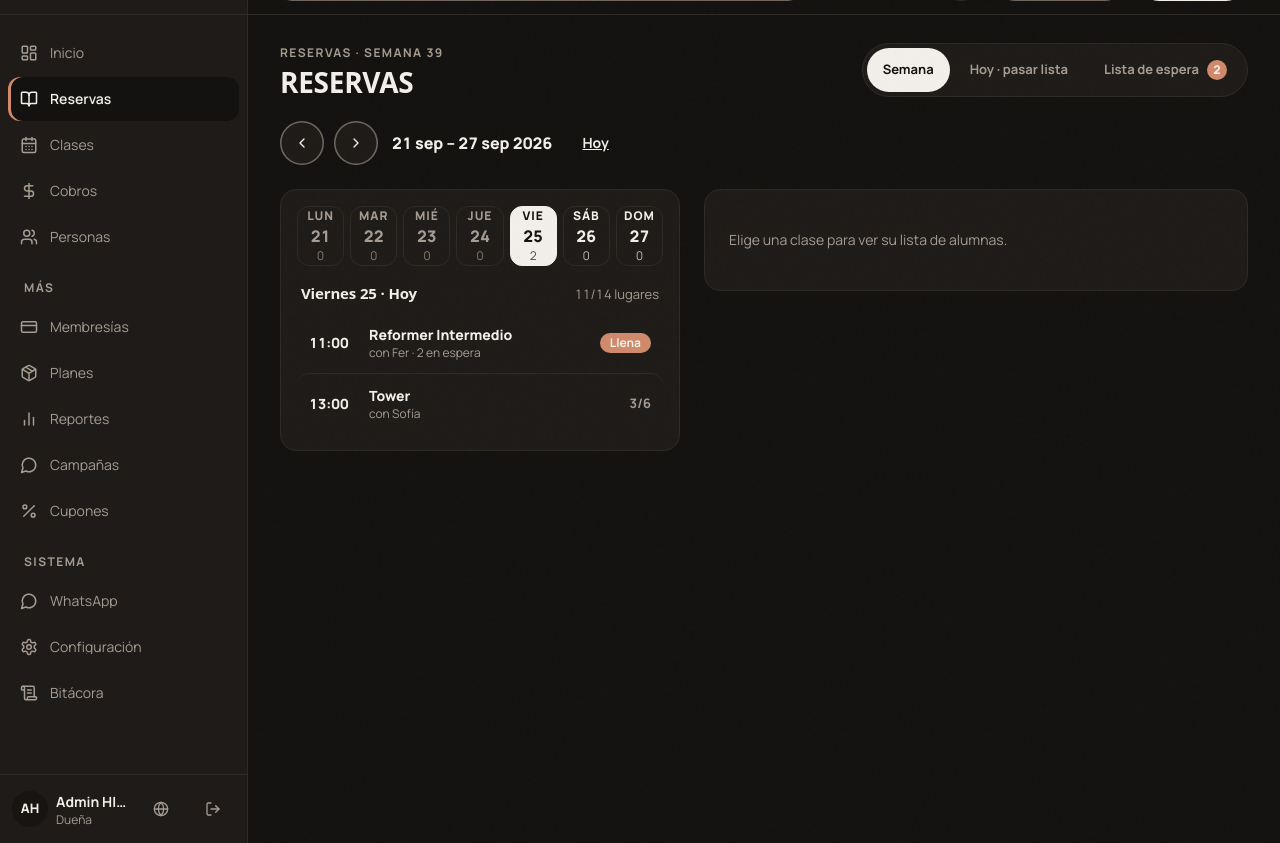
Test: Reservas · Semana › elegir otra clase la pone en la URL
The image size is (1280, 843).
What coordinates should you click on to do the following:
click the button "13:00 Tower con Sofía 3/6"
I would click on:
 (329, 403)
Its box is [297,372,663,434].
(page scrolled)
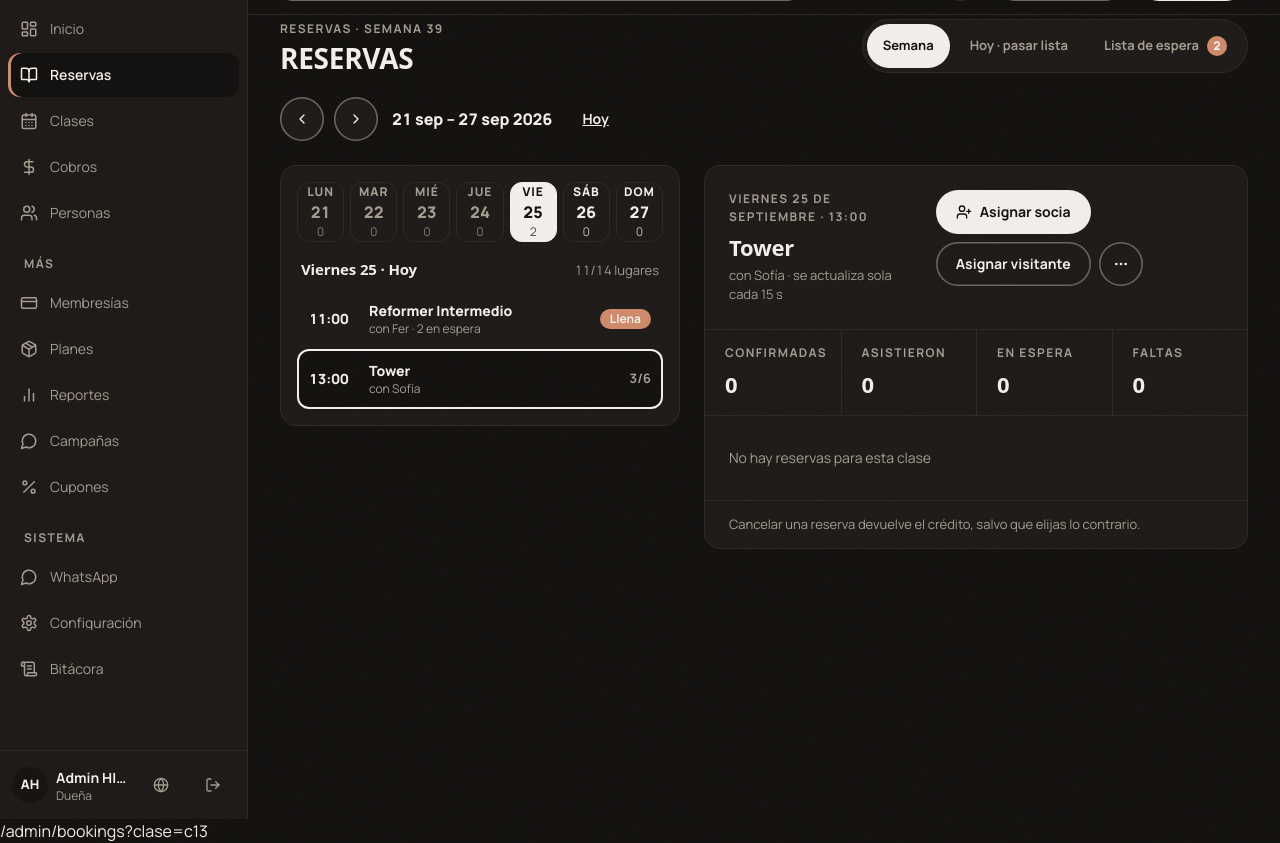
Result: the text with test id "location" reads "/admin/bookings?clase=c13" at [0,820,208,842]
